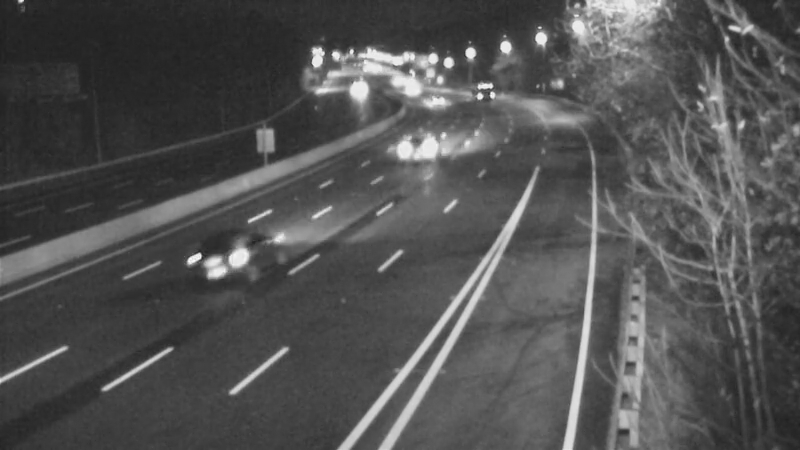vehicle: (371, 114, 451, 194), (185, 229, 265, 309), (458, 62, 508, 112), (385, 62, 435, 112), (406, 79, 456, 129), (338, 69, 388, 119)
